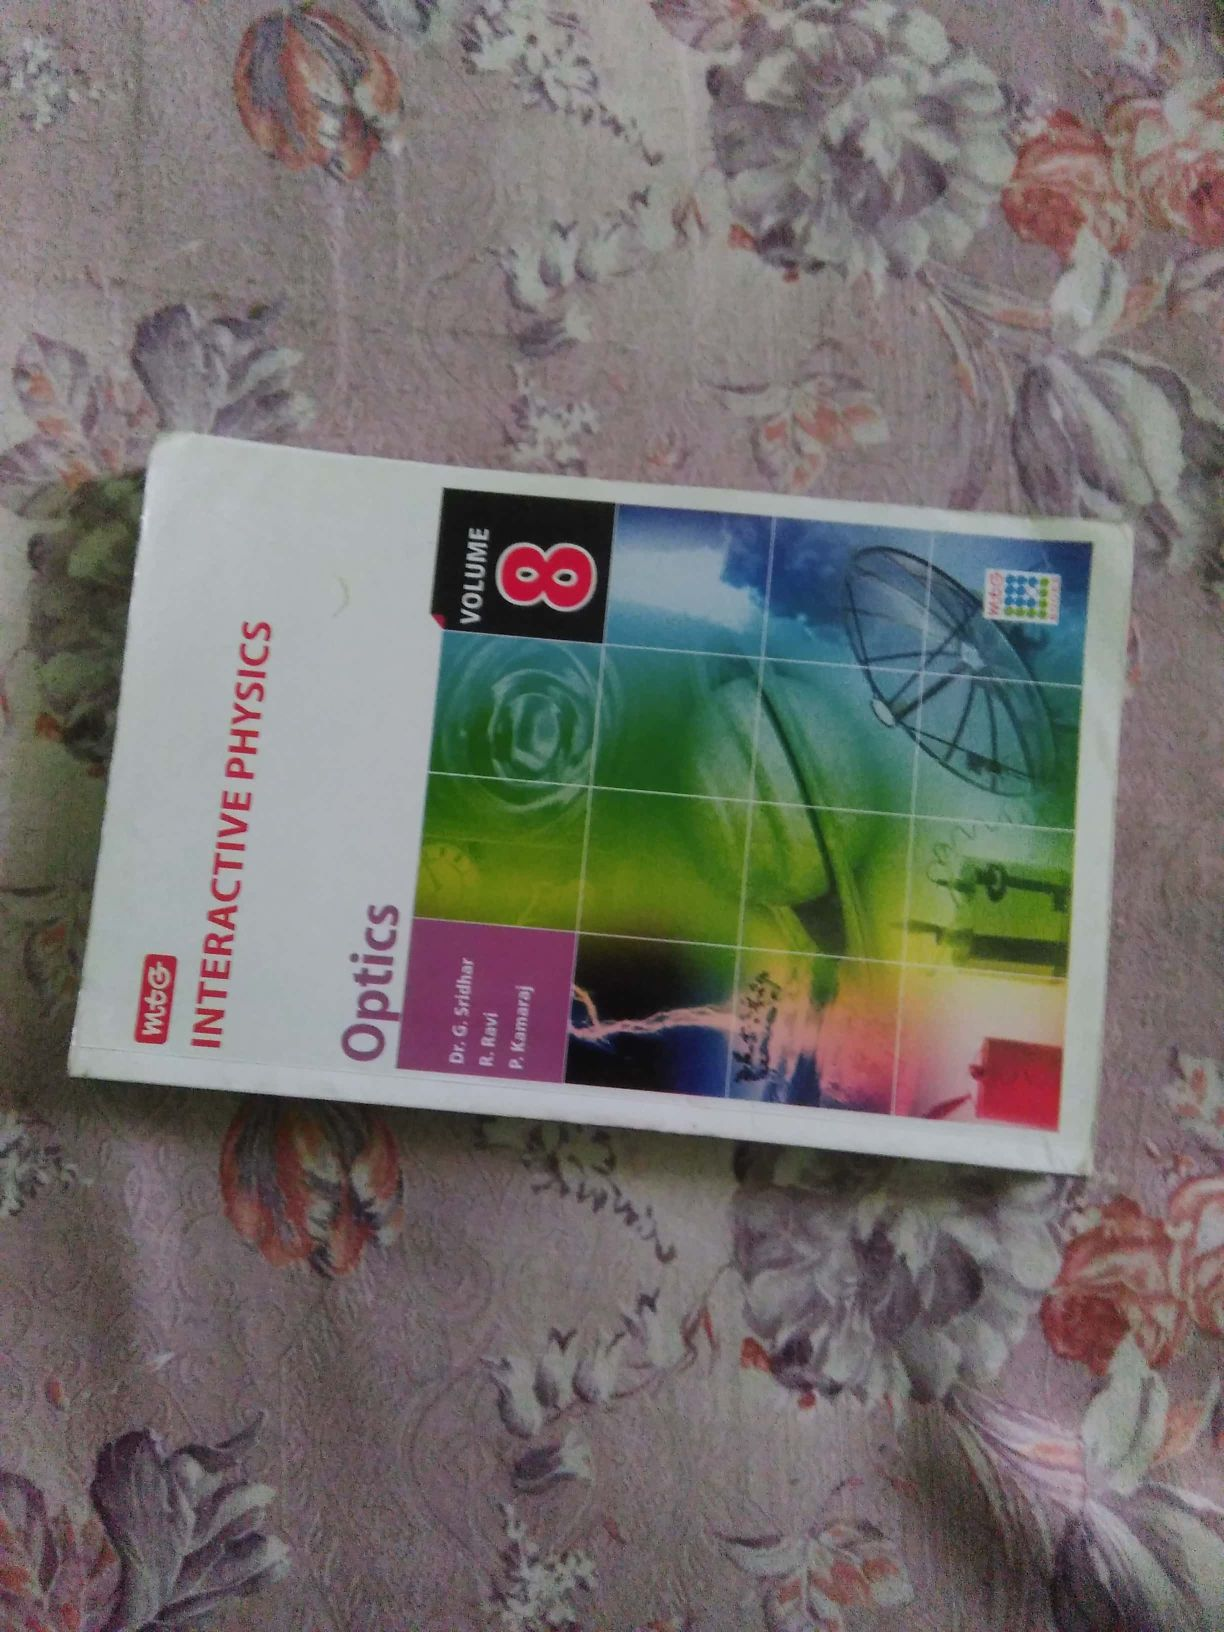optics: (42, 386, 1164, 1222)
